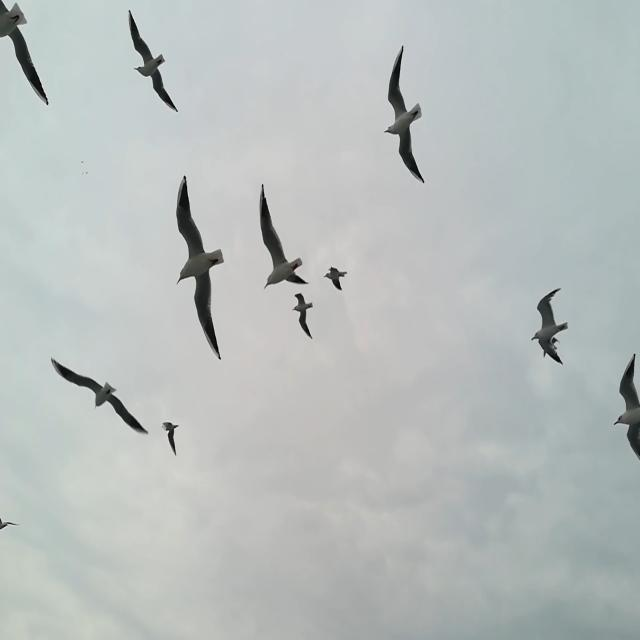bird: (171, 164, 225, 366), (43, 350, 152, 442), (124, 0, 180, 128), (384, 40, 426, 191), (1, 0, 54, 116), (255, 174, 302, 302), (610, 340, 640, 480), (529, 274, 568, 367), (289, 286, 318, 337), (322, 255, 352, 300), (157, 415, 180, 452)
